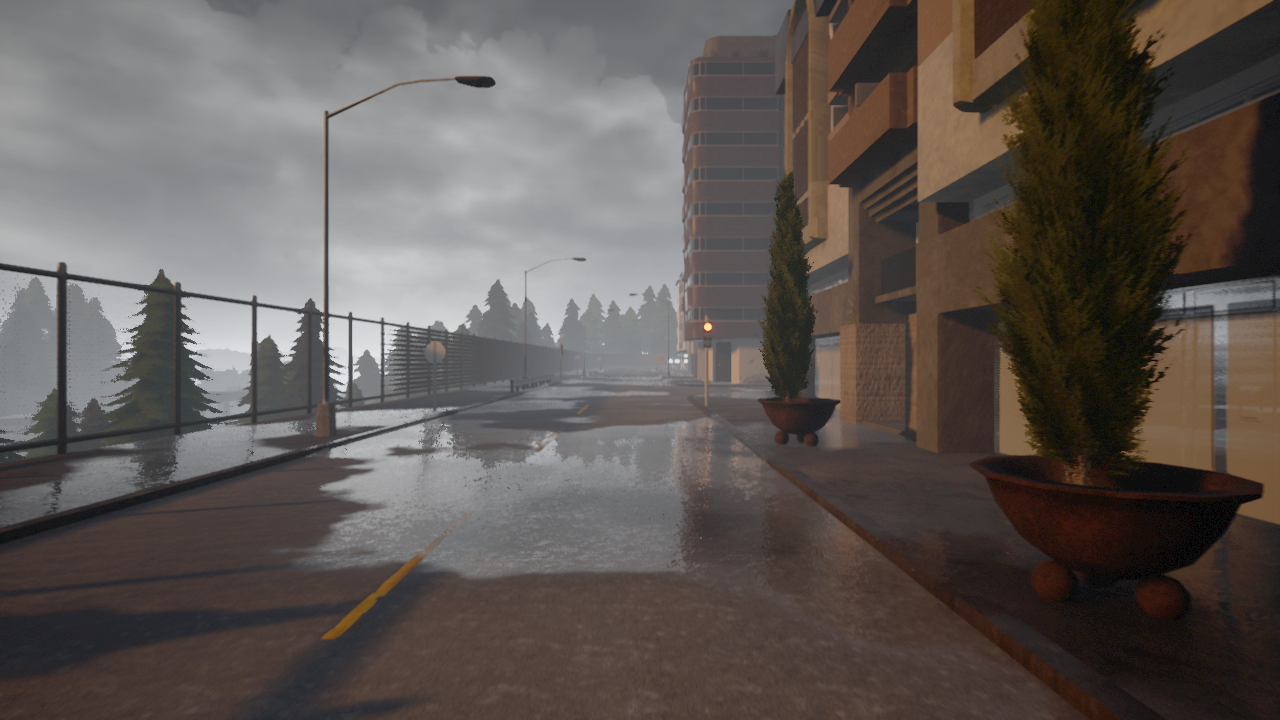red: (702, 321, 713, 348)
